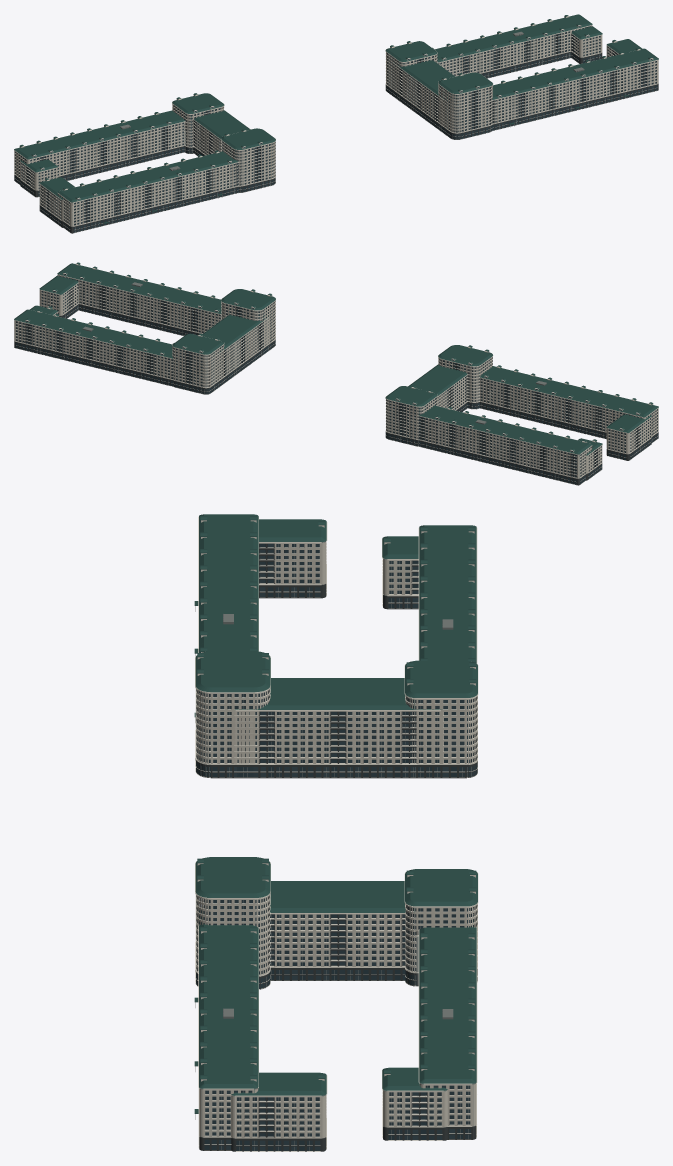
The model's file is baiterek-quarter-r1-draco.glb.
3 views of the same model, one above another, from view 1: azimuth 30°, elevation 25°; view 2: azimuth 150°, elevation 25°; view 3: azimuth 270°, elevation 25° (orthographic). The views are drawn at different scales.
Visible parts, largest first — view 1: Quarter roof, Quarter cornice, Quarter plinth, Quarter limestone 1, Quarter limestone 0, Quarter limestone 2, Quarter glass 0, Quarter glass 2, Quarter glass 1, Quarter glass 3, Quarter recess, Quarter frames (+1 smaller); view 2: Quarter roof, Quarter cornice, Quarter plinth, Quarter limestone 0, Quarter limestone 1, Quarter limestone 2, Quarter glass 2, Quarter glass 0, Quarter glass 1, Quarter glass 3, Quarter recess, Quarter frames (+1 smaller); view 3: Quarter roof, Quarter cornice, Quarter limestone 1, Quarter plinth, Quarter limestone 2, Quarter limestone 0, Quarter glass 0, Quarter glass 1, Quarter glass 2, Quarter glass 3, Quarter recess, Quarter frames (+1 smaller).
Boxes of the visible parts, left/top/right/bottom form: Quarter roof: left=14, top=14, right=658, bottom=223; Quarter cornice: left=14, top=16, right=657, bottom=232; Quarter plinth: left=14, top=26, right=658, bottom=233; Quarter limestone 1: left=14, top=25, right=658, bottom=226; Quarter limestone 0: left=14, top=35, right=647, bottom=226; Quarter limestone 2: left=23, top=35, right=657, bottom=215; Quarter glass 0: left=14, top=27, right=657, bottom=232; Quarter glass 2: left=15, top=25, right=656, bottom=231; Quarter glass 1: left=15, top=28, right=656, bottom=231; Quarter glass 3: left=15, top=26, right=656, bottom=230; Quarter recess: left=15, top=27, right=656, bottom=224; Quarter frames: left=15, top=31, right=655, bottom=232; Quarter roof: left=14, top=262, right=658, bottom=455; Quarter cornice: left=15, top=263, right=658, bottom=484; Quarter plinth: left=14, top=278, right=658, bottom=485; Quarter limestone 0: left=41, top=282, right=658, bottom=477; Quarter limestone 1: left=14, top=275, right=658, bottom=478; Quarter limestone 2: left=15, top=275, right=645, bottom=476; Quarter glass 2: left=16, top=273, right=658, bottom=481; Quarter glass 0: left=15, top=277, right=657, bottom=483; Quarter glass 1: left=16, top=276, right=657, bottom=484; Quarter glass 3: left=16, top=278, right=657, bottom=482; Quarter recess: left=16, top=276, right=657, bottom=476; Quarter frames: left=17, top=281, right=644, bottom=479; Quarter roof: left=194, top=514, right=477, bottom=1113; Quarter cornice: left=195, top=516, right=478, bottom=1151; Quarter limestone 1: left=196, top=541, right=477, bottom=1138; Quarter plinth: left=195, top=543, right=477, bottom=1151; Quarter limestone 2: left=196, top=561, right=477, bottom=1114; Quarter limestone 0: left=196, top=543, right=477, bottom=1137; Quarter glass 0: left=196, top=544, right=477, bottom=1150; Quarter glass 1: left=199, top=544, right=473, bottom=1150; Quarter glass 2: left=197, top=520, right=474, bottom=1150; Quarter glass 3: left=199, top=544, right=473, bottom=1150; Quarter recess: left=196, top=544, right=477, bottom=1136; Quarter frames: left=195, top=544, right=471, bottom=1150.
Size of the model in its own units: 631 by 49.91 by 131.
